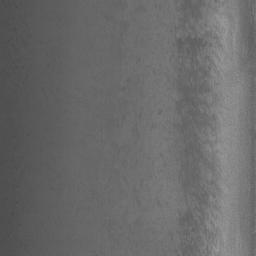Silk spot: (177, 133, 220, 256), (173, 31, 223, 131), (175, 0, 217, 32), (173, 118, 188, 143), (132, 123, 140, 139)
